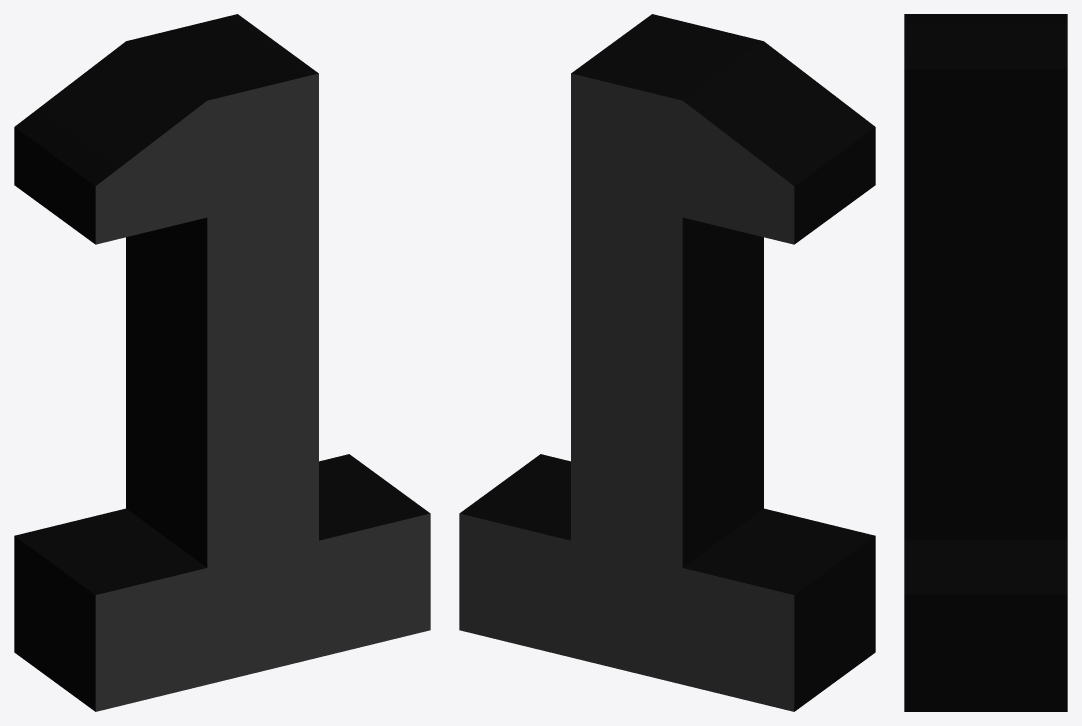
Rendered from fc94c79d-026e-4d3a-a158-318eac691103.glb.
3 renders of one model, left to right at view 1: azimuth 30°, elevation 25°; view 2: azimuth 150°, elevation 25°; view 3: azimuth 270°, elevation 25°, orthographic.
Parts seen in each view (by area): view 1: 1_DeltaBlock_Black; view 2: 1_DeltaBlock_Black; view 3: 1_DeltaBlock_Black.
Part boxes in pixels (box(x1,y1,x2,y2)): 1_DeltaBlock_Black: box(14, 14, 430, 711); 1_DeltaBlock_Black: box(459, 14, 875, 711); 1_DeltaBlock_Black: box(904, 14, 1067, 711).
Size of what is drawn, in the model's own units: 0.1071 by 0.1786 by 0.045.
Materials: 2 (2 with a texture image).
